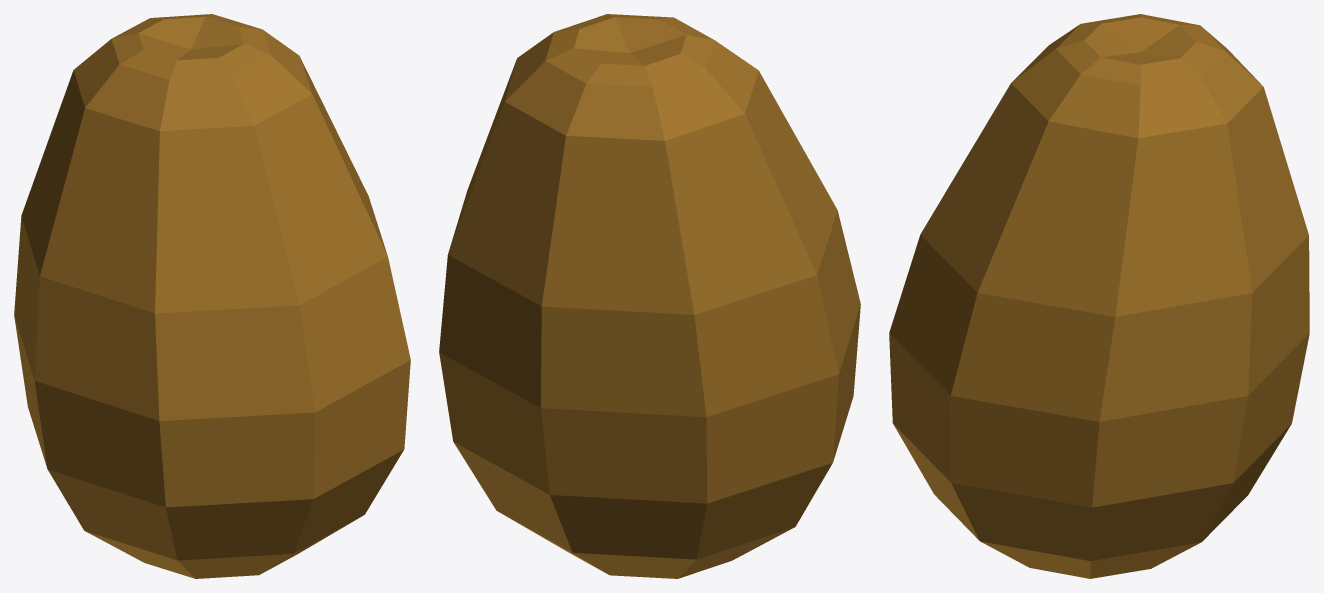
The model's file is potato.fbx.
3 renders of one model, left to right at view 1: azimuth 30°, elevation 25°; view 2: azimuth 150°, elevation 25°; view 3: azimuth 270°, elevation 25°, orthographic. The views are drawn at different scales.
Visible parts, largest first — view 1: Sphere; view 2: Sphere; view 3: Sphere.
Part boxes in pixels (bbox=[...]): Sphere: bbox=[14, 14, 410, 578]; Sphere: bbox=[439, 14, 860, 578]; Sphere: bbox=[889, 14, 1309, 578].
Size of the model in its own units: 67.24 by 89.91 by 67.26.
